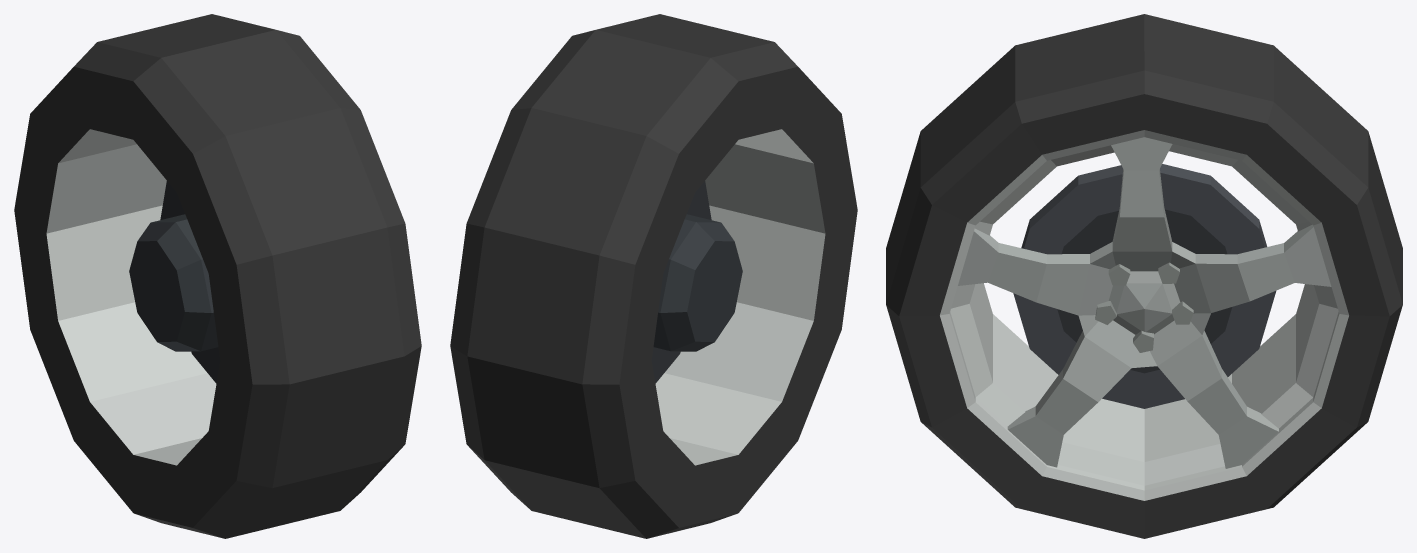
File: prop_veh_sports_wheel_01a.fbx
The picture shows the model from 3 angles, left to right: view 1: azimuth 30°, elevation 25°; view 2: azimuth 150°, elevation 25°; view 3: azimuth 270°, elevation 25°; orthographic projection.
Visible parts, largest first — view 1: SM_Veh_Sports_01_Wheel_rr; view 2: SM_Veh_Sports_01_Wheel_rr; view 3: SM_Veh_Sports_01_Wheel_rr.
Part boxes in pixels (bbox=[...]): SM_Veh_Sports_01_Wheel_rr: bbox=[14, 14, 421, 538]; SM_Veh_Sports_01_Wheel_rr: bbox=[450, 14, 857, 538]; SM_Veh_Sports_01_Wheel_rr: bbox=[886, 14, 1402, 538].
Bounding box in the file's own units: 26.74 × 71.41 × 71.41.
1 material, 1 textured.
